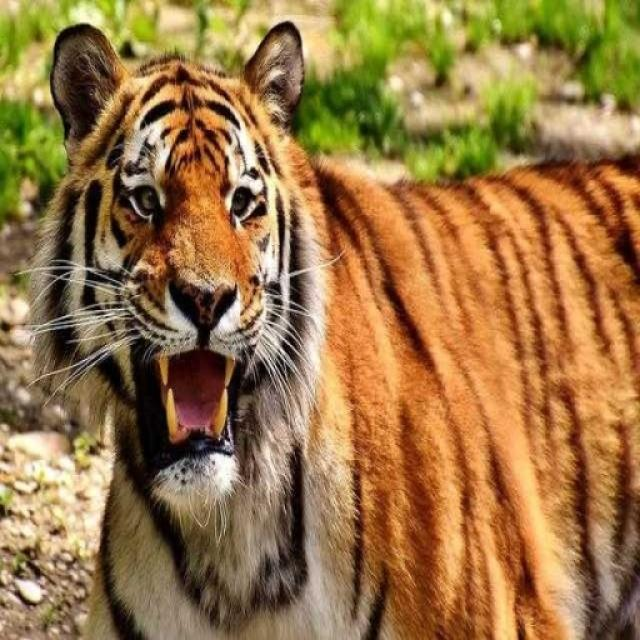tiger: (17, 18, 639, 639)
